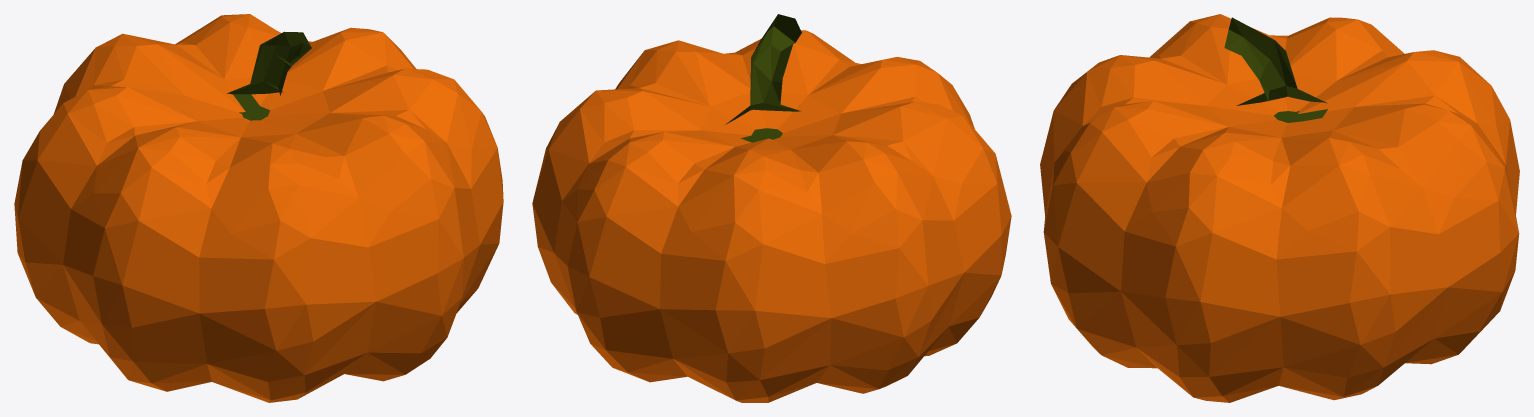
Rendered from pumkin-low-poly.fbx.
3 renders of one model, left to right at view 1: azimuth 30°, elevation 25°; view 2: azimuth 150°, elevation 25°; view 3: azimuth 270°, elevation 25°, orthographic. The views are drawn at different scales.
Visible parts, largest first — view 1: pumkin body, pumkin stem; view 2: pumkin body, pumkin stem; view 3: pumkin body, pumkin stem.
Boxes of the visible parts, box(x1,y1,x2,y2) form: pumkin body: box(14, 14, 503, 402); pumkin stem: box(227, 31, 311, 120); pumkin body: box(532, 30, 1011, 402); pumkin stem: box(725, 14, 801, 142); pumkin body: box(1040, 14, 1519, 402); pumkin stem: box(1224, 17, 1327, 122).
Bounding box in the file's own units: 228 × 172 × 231.
